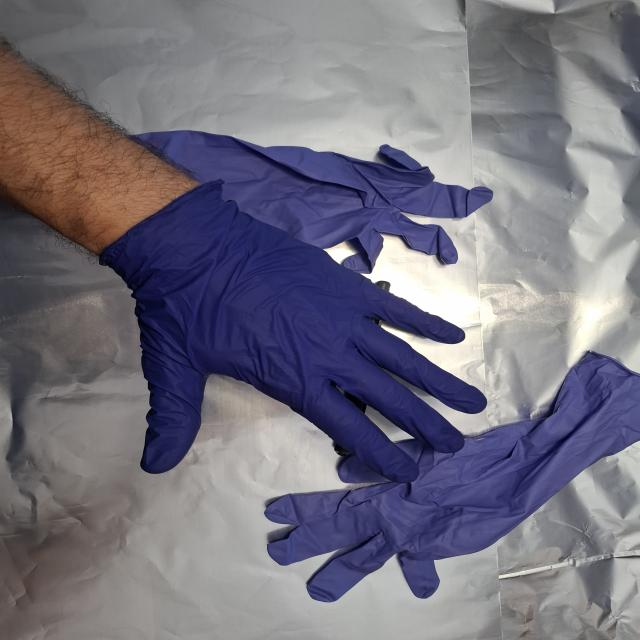glove_on: (110, 190, 490, 484)
